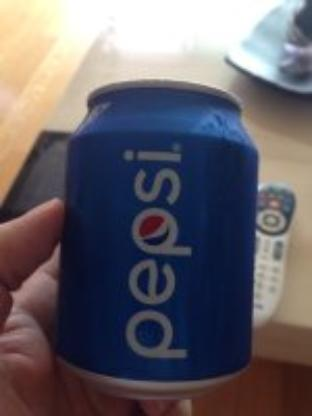Can: (52, 78, 258, 390)
